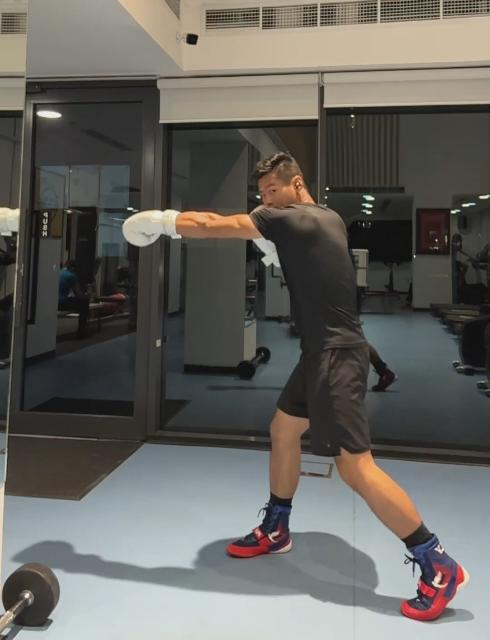punch: (120, 148, 470, 624)
